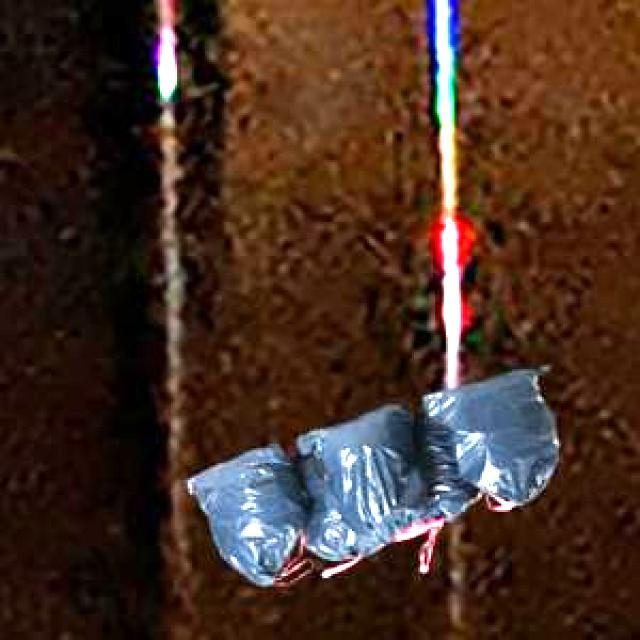Garbage_Bag: (187, 366, 556, 582)
